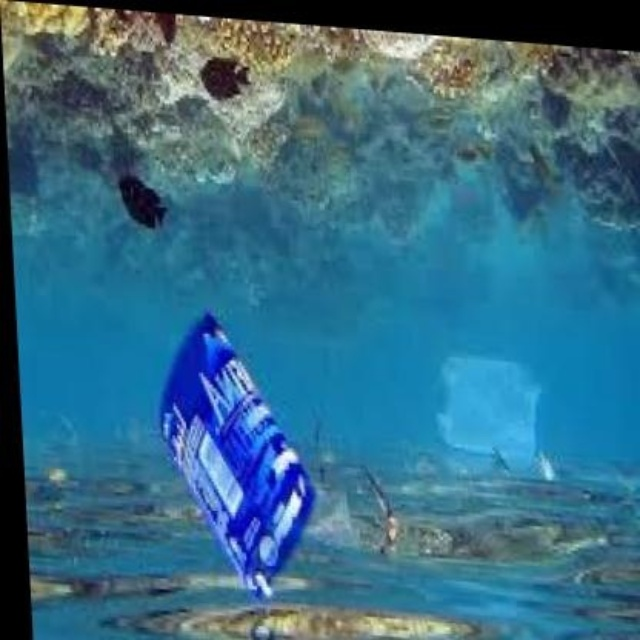trash: (162, 312, 314, 597)
